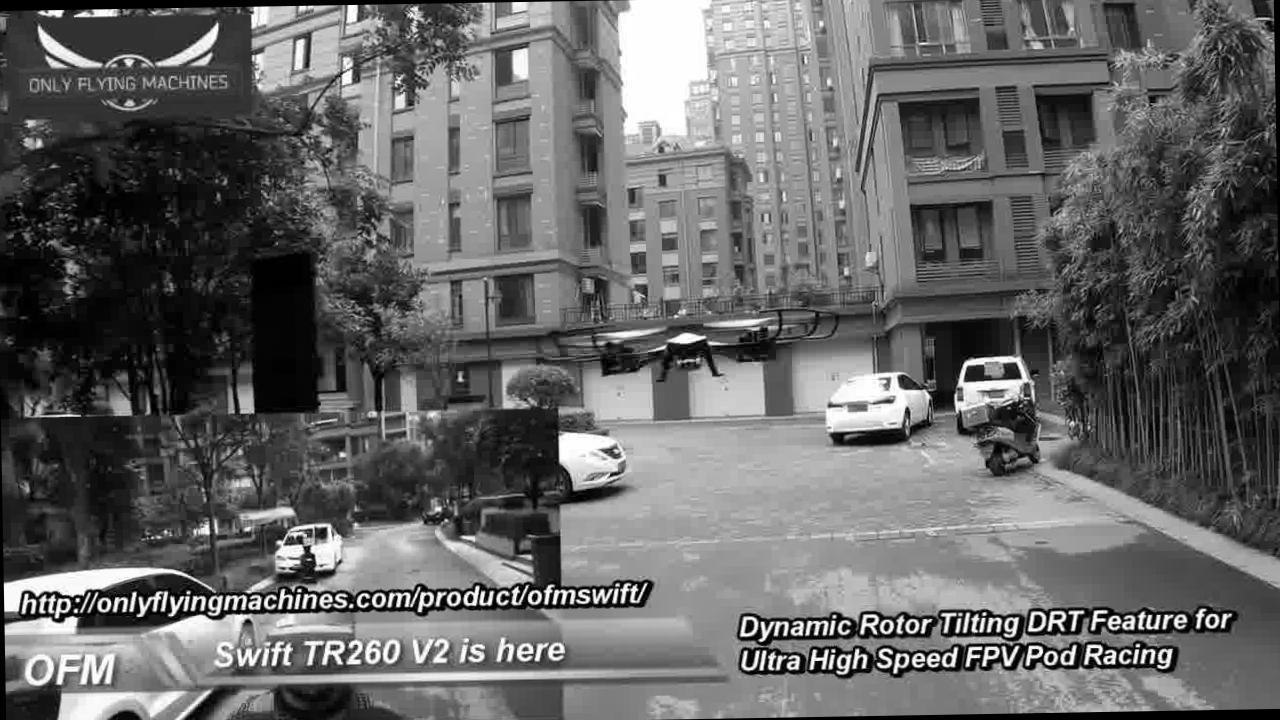drone: (538, 294, 841, 392)
